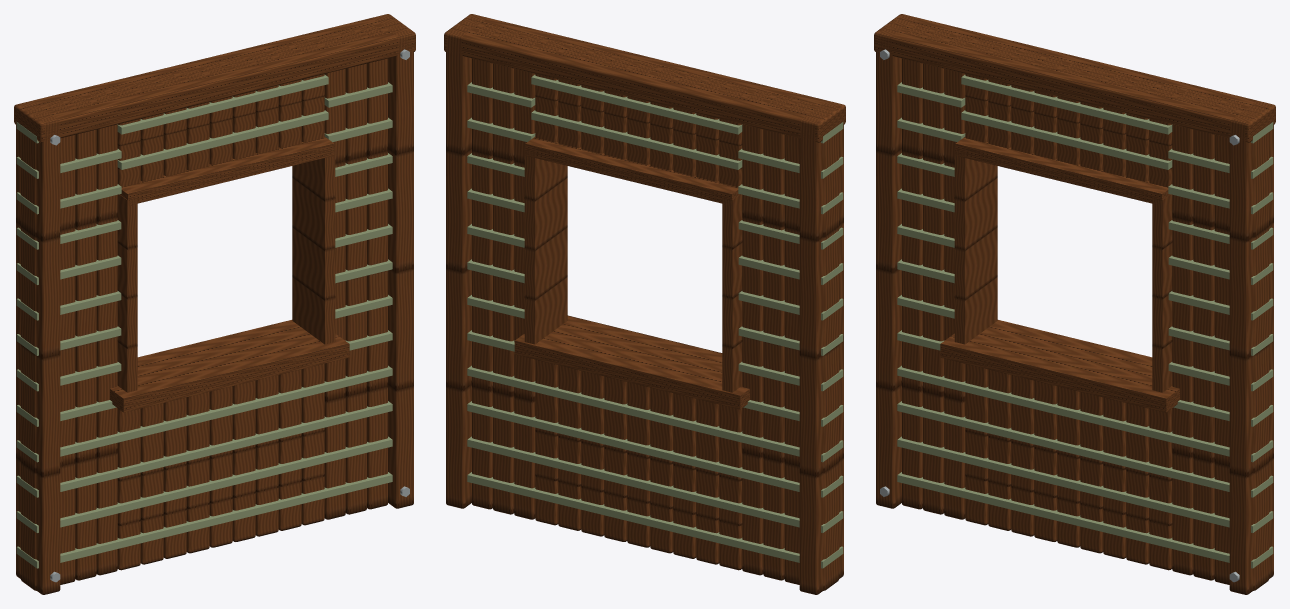
File: prehistoric-survivor-settlement-woven-window-wall-3bf2d16a__23163.glb
The picture shows the model from 3 angles, left to right: view 1: azimuth 30°, elevation 25°; view 2: azimuth 150°, elevation 25°; view 3: azimuth 330°, elevation 25°; orthographic projection.
Parts seen in each view (by area): view 1: woven-window-wall; view 2: woven-window-wall; view 3: woven-window-wall.
Part boxes in pixels (x1=…): woven-window-wall: x1=14, y1=14, x2=415, y2=594; woven-window-wall: x1=444, y1=14, x2=845, y2=594; woven-window-wall: x1=874, y1=14, x2=1275, y2=594.
Bounding box in the file's own units: 2 × 2.4 × 0.3601.
3 materials, 1 textured.
